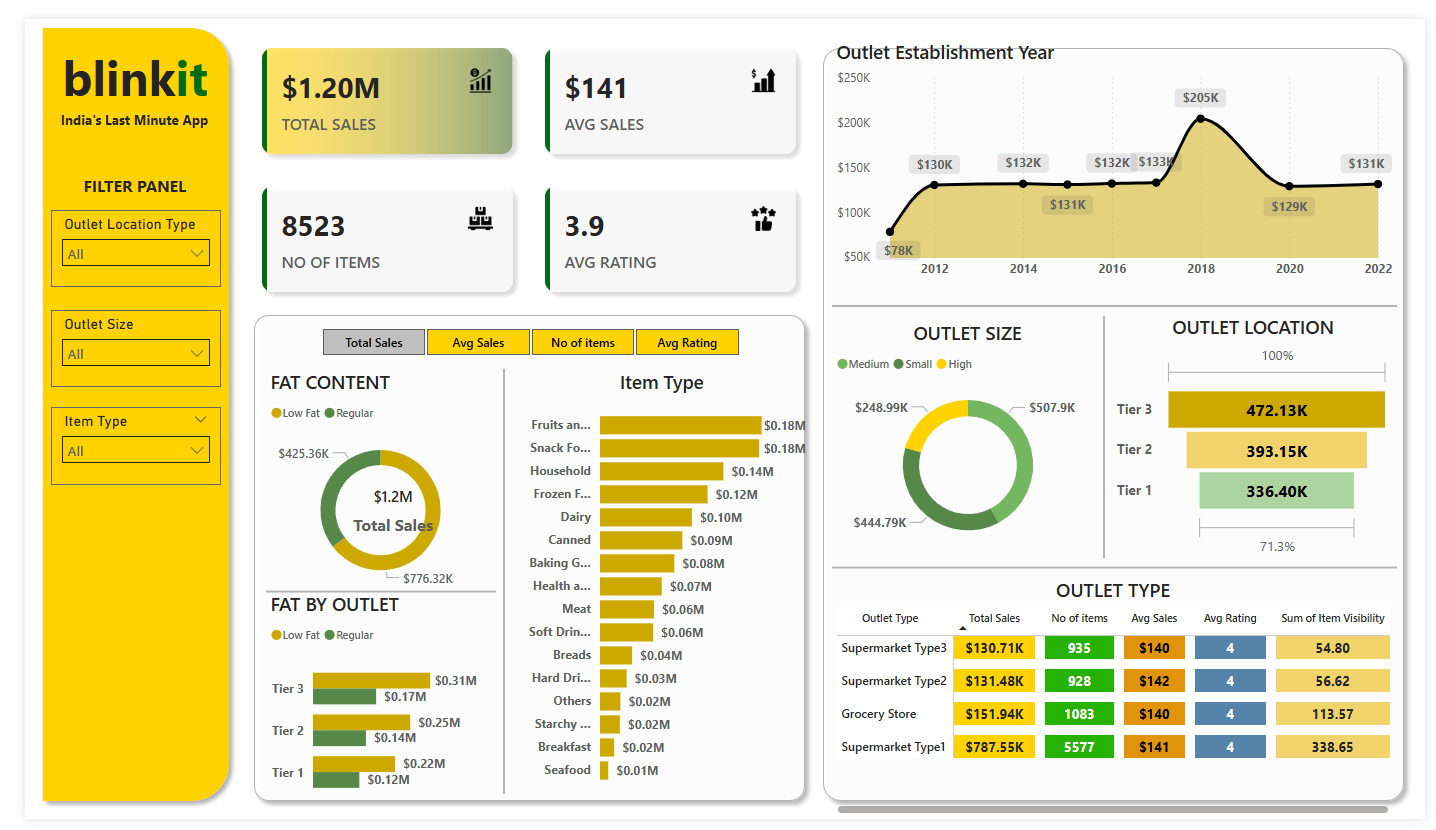

What the dashboard file says about the page in this screenshot:
{"tool":"powerbi","page":{"name":"Page 1","canvas":[1400,800],"ordinal":0},"visuals":[{"type":"shape","box":[9.2,0,203.9,790.8],"z":0},{"type":"textbox","box":[26.3,19.7,168.4,82.9],"z":1000},{"type":"textbox","box":[15.8,86.8,188.2,31.6],"z":2000},{"type":"cardVisual","fields":{"Data":["BlinkIT Grocery Data.Total Sales","BlinkIT Grocery Data.Avg Sales","BlinkIT Grocery Data.No of items","BlinkIT Grocery Data.Avg Rating"]},"box":[219.7,11.8,569.7,278.9],"z":3000},{"type":"shape","box":[220,287,569,504],"z":4000},{"type":"donutChart","title":"FAT CONTENT","fields":{"Y":["BlinkIT Grocery Data.Total Sales"],"Category":["BlinkIT Grocery Data.Item Fat Content"]},"box":[240.8,350,228.9,230.3],"z":5000},{"type":"slicer","fields":{"Values":["Metrics.Metrics"]},"box":[272.4,302.6,465.8,39.5],"z":6000},{"type":"card","fields":{"Values":["BlinkIT Grocery Data.Total Sales"]},"box":[314.5,440.8,107.9,98.7],"z":7000},{"type":"clusteredBarChart","title":"FAT BY OUTLET","fields":{"Y":["BlinkIT Grocery Data.Total Sales"],"Series":["BlinkIT Grocery Data.Item Fat Content"],"Category":["BlinkIT Grocery Data.Outlet Location Type"]},"box":[240.8,572.4,215.8,219.7],"z":8000},{"type":"shape","box":[240.8,531.6,230.3,81.6],"z":9000},{"type":"shape","box":[452.6,350,52.6,425],"z":10000},{"type":"barChart","title":" Item Type","fields":{"Y":["BlinkIT Grocery Data.Total Sales"],"Category":["BlinkIT Grocery Data.Item Type"]},"box":[488.2,350,297.4,425],"z":11000},{"type":"shape","box":[789.5,19.7,598.7,771.1],"z":12000},{"type":"lineChart","title":"Outlet Establishment Year","fields":{"Y":["BlinkIT Grocery Data.Total Sales"],"Category":["BlinkIT Grocery Data.Outlet Establishment Year"]},"box":[807,20,565,248],"z":13000},{"type":"shape","box":[806.6,246.1,565.8,81.6],"z":14000},{"type":"donutChart","title":"OUTLET SIZE","fields":{"Y":["BlinkIT Grocery Data.Total Sales"],"Category":["BlinkIT Grocery Data.Outlet Size"]},"box":[806.6,301.3,272.4,238.2],"z":15000},{"type":"shape","box":[1048.7,297.4,60.5,242.1],"z":16000},{"type":"funnel","title":"OUTLET LOCATION","fields":{"Y":["Sum(BlinkIT Grocery Data.Sales)"],"Category":["BlinkIT Grocery Data.Outlet Location Type"]},"box":[1086.8,294.7,282.9,247.4],"z":17000},{"type":"shape","box":[806.6,507.9,565.8,81.6],"z":18000},{"type":"pivotTable","title":"OUTLET TYPE","fields":{"Rows":["BlinkIT Grocery Data.Outlet Type"],"Values":["BlinkIT Grocery Data.Total Sales","BlinkIT Grocery Data.No of items","BlinkIT Grocery Data.Avg Sales","BlinkIT Grocery Data.Avg Rating","Sum(BlinkIT Grocery Data.Item Visibility)"]},"box":[806.6,557.9,563.2,242.1],"z":19000},{"type":"slicer","fields":{"Values":["BlinkIT Grocery Data.Outlet Location Type"]},"box":[26.3,190.8,169.7,77.6],"z":20000},{"type":"slicer","fields":{"Values":["BlinkIT Grocery Data.Outlet Size"]},"box":[26.3,290.8,169.7,77.6],"z":21000},{"type":"slicer","fields":{"Values":["BlinkIT Grocery Data.Item Type"]},"box":[26.3,388.2,169.7,77.6],"z":22000},{"type":"textbox","box":[53.9,151.3,113.2,34.2],"z":22001}]}

Visuals, with their boxes in screenshot pixels (x1, y1, x2, y2), scaled from the page's 1400x800 canvas onto the 1436x830 screenshot:
shape: BBox(9, 0, 219, 820)
textbox: BBox(27, 20, 200, 106)
textbox: BBox(16, 90, 209, 123)
cardVisual - BlinkIT Grocery Data.Total Sales x BlinkIT Grocery Data.Avg Sales: BBox(225, 12, 810, 302)
shape: BBox(226, 298, 809, 821)
"FAT CONTENT" donutChart: BBox(247, 363, 482, 602)
slicer - Metrics.Metrics: BBox(279, 314, 757, 355)
card - BlinkIT Grocery Data.Total Sales: BBox(323, 457, 433, 560)
"FAT BY OUTLET" clusteredBarChart: BBox(247, 594, 468, 822)
shape: BBox(247, 552, 483, 636)
shape: BBox(464, 363, 518, 804)
" Item Type" barChart: BBox(501, 363, 806, 804)
shape: BBox(810, 20, 1424, 820)
"Outlet Establishment Year" lineChart: BBox(828, 21, 1407, 278)
shape: BBox(827, 255, 1408, 340)
"OUTLET SIZE" donutChart: BBox(827, 313, 1107, 560)
shape: BBox(1076, 309, 1138, 560)
"OUTLET LOCATION" funnel: BBox(1115, 306, 1405, 562)
shape: BBox(827, 527, 1408, 612)
"OUTLET TYPE" pivotTable: BBox(827, 579, 1405, 829)
slicer - BlinkIT Grocery Data.Outlet Location Type: BBox(27, 198, 201, 278)
slicer - BlinkIT Grocery Data.Outlet Size: BBox(27, 302, 201, 382)
slicer - BlinkIT Grocery Data.Item Type: BBox(27, 403, 201, 483)
textbox: BBox(55, 157, 171, 192)
